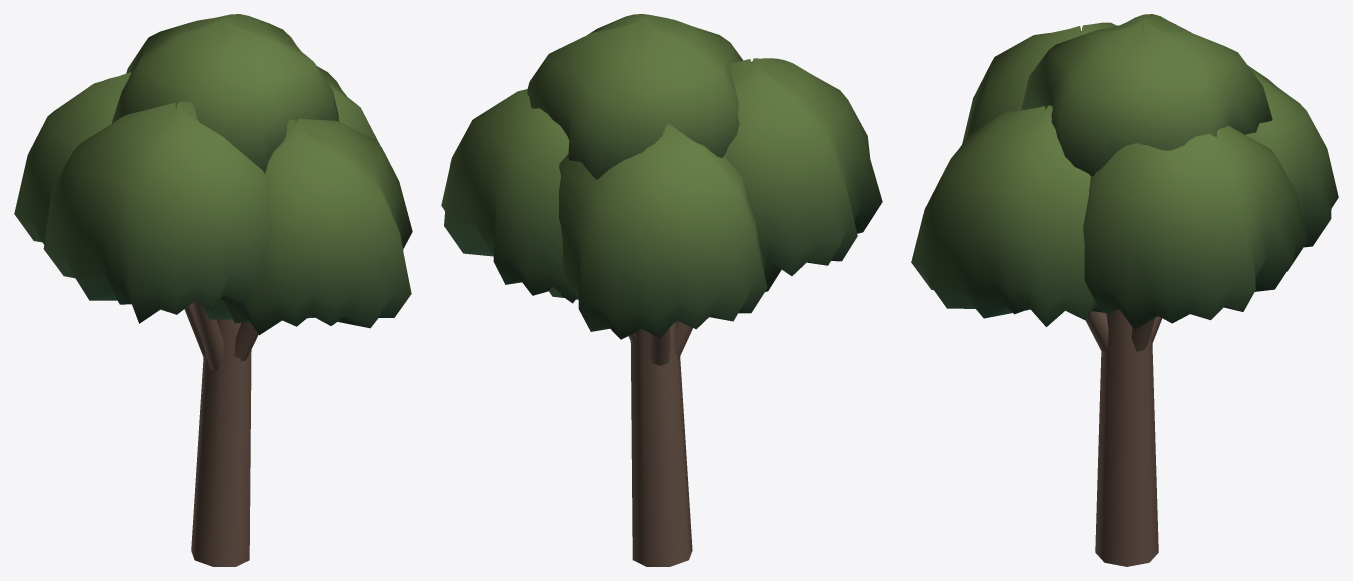
Rendered from round_oak.glb.
The picture shows the model from 3 angles, left to right: view 1: azimuth 30°, elevation 25°; view 2: azimuth 150°, elevation 25°; view 3: azimuth 270°, elevation 25°; orthographic projection. The views are drawn at different scales.
Parts seen in each view (by area): view 1: Occlude_Canopy_2_Mesh, Occlude_Canopy_3_Mesh, Keep_Mesh, Occlude_Canopy_1_Mesh, Occlude_Canopy_0_Mesh; view 2: Occlude_Canopy_1_Mesh, Occlude_Canopy_0_Mesh, Occlude_Canopy_2_Mesh, Keep_Mesh, Occlude_Canopy_3_Mesh; view 3: Occlude_Canopy_3_Mesh, Occlude_Canopy_0_Mesh, Keep_Mesh, Occlude_Canopy_1_Mesh, Occlude_Canopy_2_Mesh.
Part boxes in pixels (x1,y1,x2,y2): Occlude_Canopy_2_Mesh: (44, 27, 315, 335); Occlude_Canopy_3_Mesh: (223, 21, 412, 328); Keep_Mesh: (184, 301, 258, 566); Occlude_Canopy_1_Mesh: (14, 20, 222, 248); Occlude_Canopy_0_Mesh: (183, 14, 358, 105); Occlude_Canopy_1_Mesh: (568, 20, 841, 339); Occlude_Canopy_0_Mesh: (441, 15, 656, 303); Occlude_Canopy_2_Mesh: (656, 22, 882, 265); Keep_Mesh: (628, 320, 692, 566); Occlude_Canopy_3_Mesh: (588, 14, 684, 34); Occlude_Canopy_3_Mesh: (911, 22, 1141, 329); Occlude_Canopy_0_Mesh: (1108, 21, 1307, 329); Keep_Mesh: (1085, 310, 1162, 566); Occlude_Canopy_1_Mesh: (1121, 14, 1338, 247); Occlude_Canopy_2_Mesh: (962, 22, 1131, 143).
Bounding box in the file's own units: 2.79 × 4.05 × 2.91.
